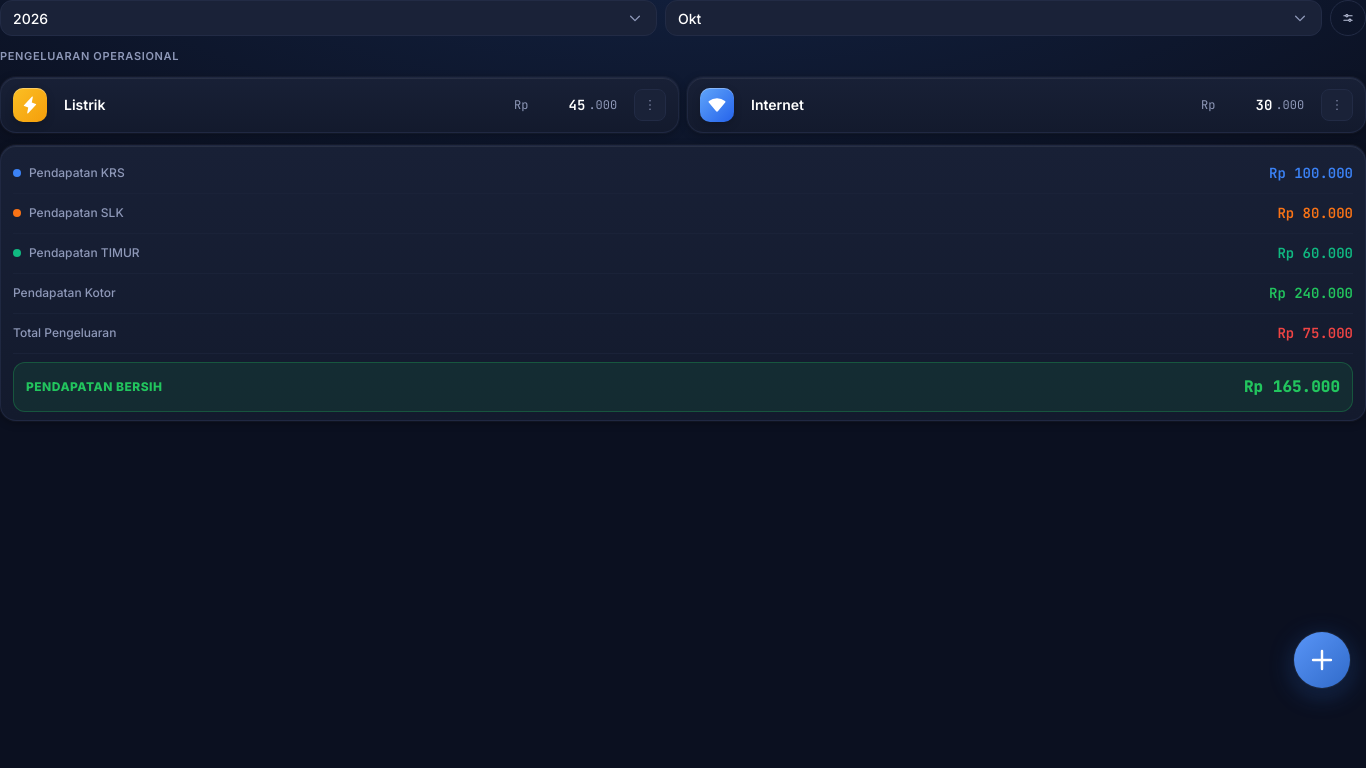
Test: Operasional — ringkasan, sheet, simpan, hapus › Tambah Item = sheet; keterangan kosong ditolak; simpan → persistPayment + log [OPS] + toast hijau
Click the button named "Tambah Item" at coordinates (1322, 660), box [1294,632,1350,688]
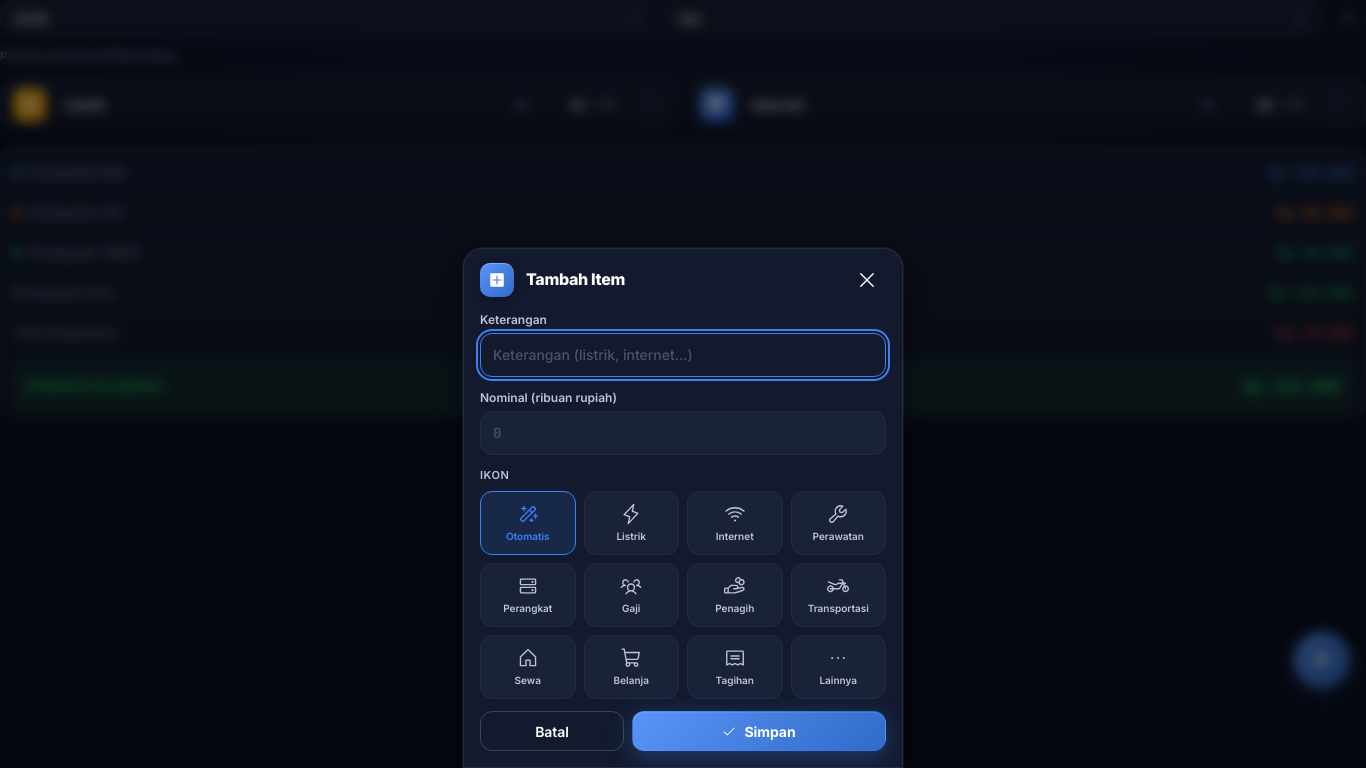
Click the button "Simpan" at coordinates (759, 731), box [632,711,886,751]
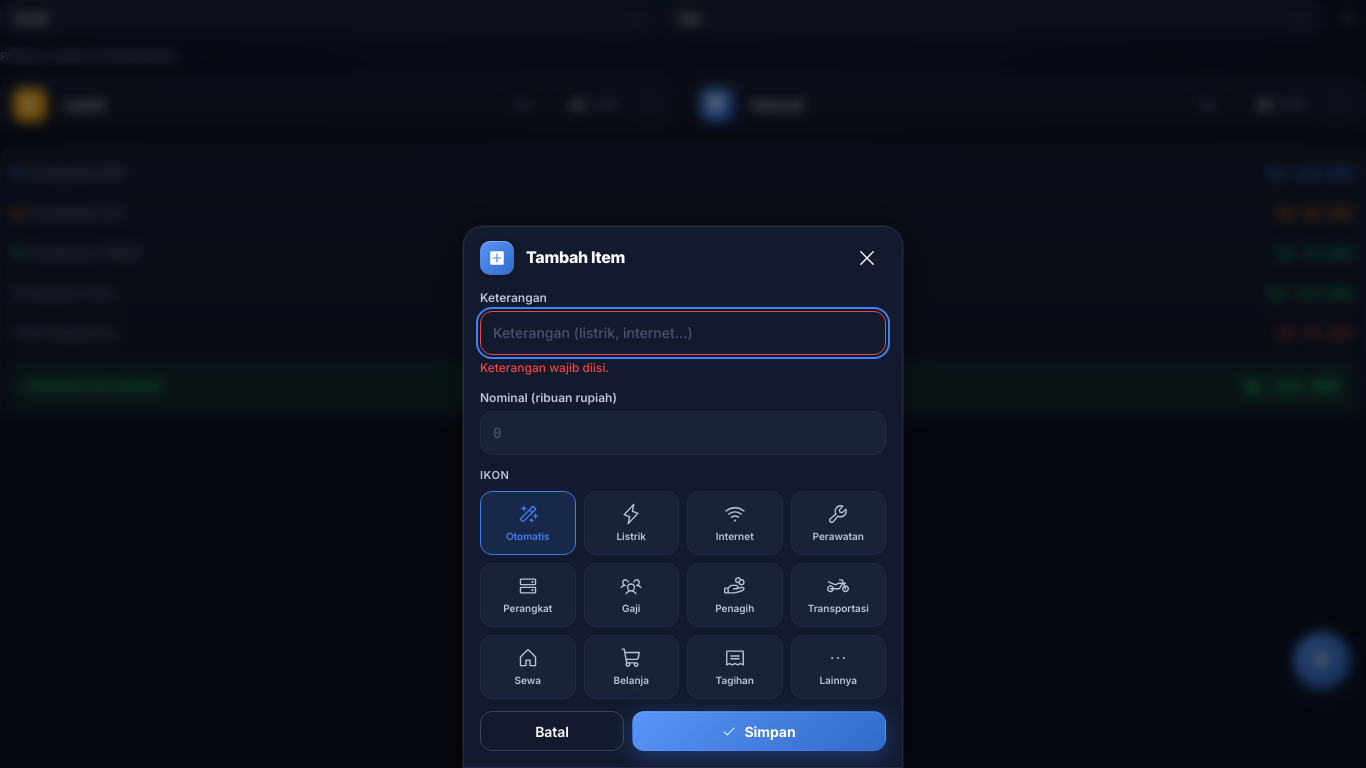
Now the text "Keterangan wajib diisi." is shown, box [480,360,609,374]
Type "Perawatan" into the field labelled "Keterangan" at coordinates (683, 332), box [480,310,886,354]
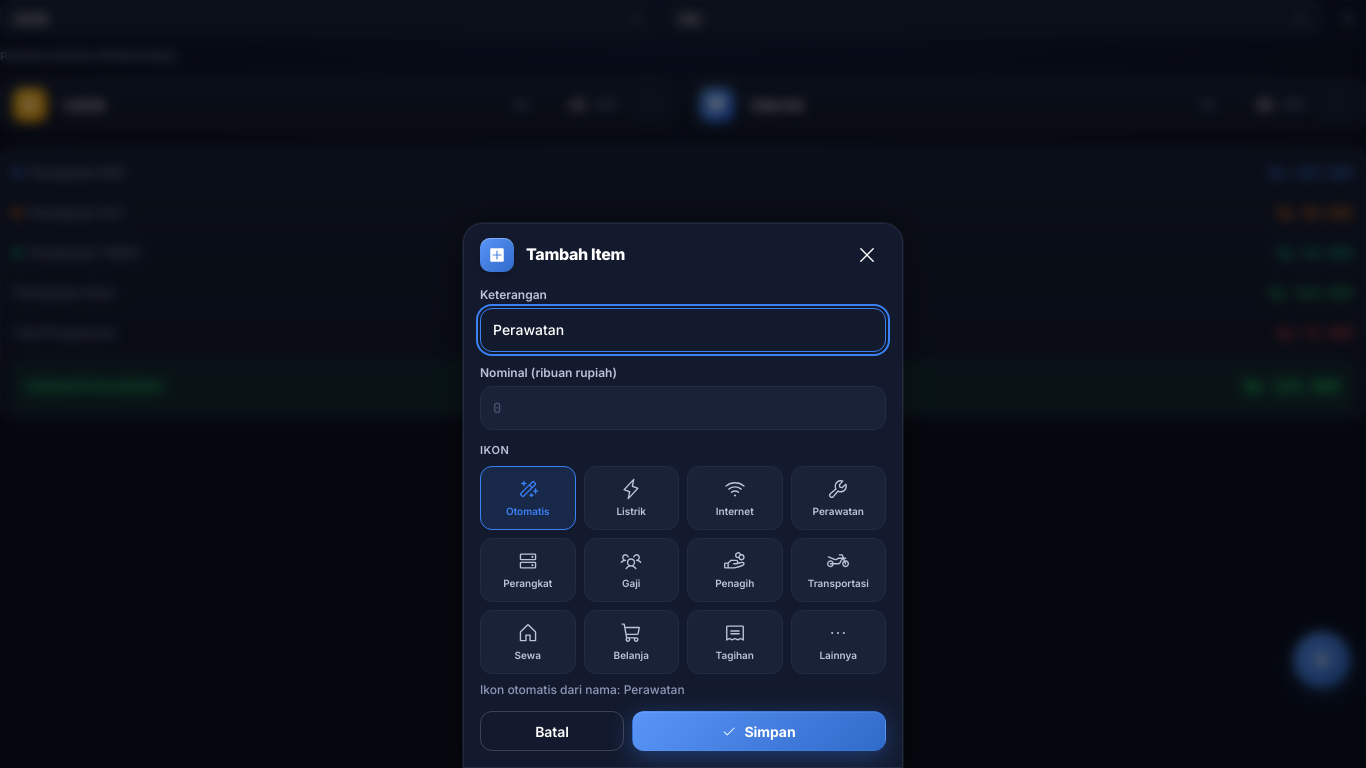
Type "25" into the number field labelled "Nominal (ribuan rupiah)" at coordinates (683, 408), box [480,386,886,430]
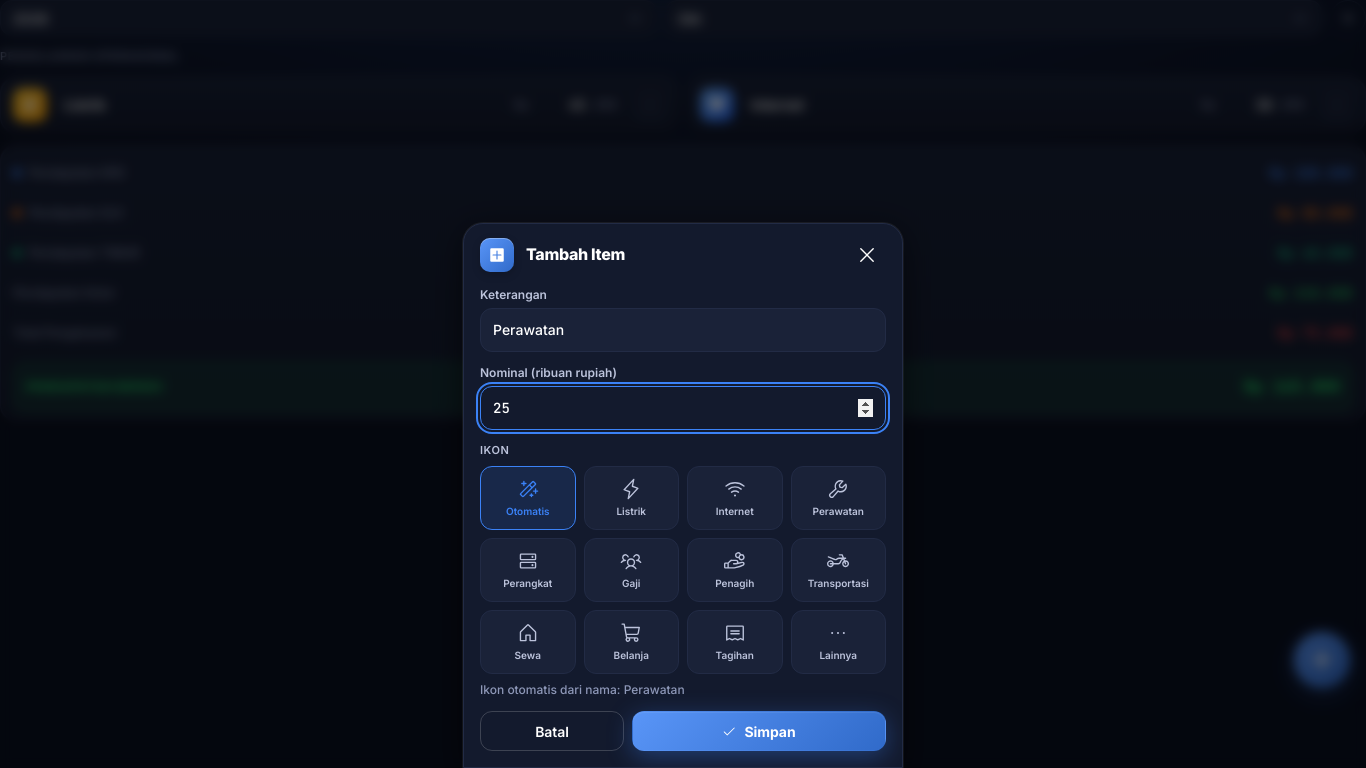
Click the button "Simpan" at coordinates (759, 731), box [632,711,886,751]
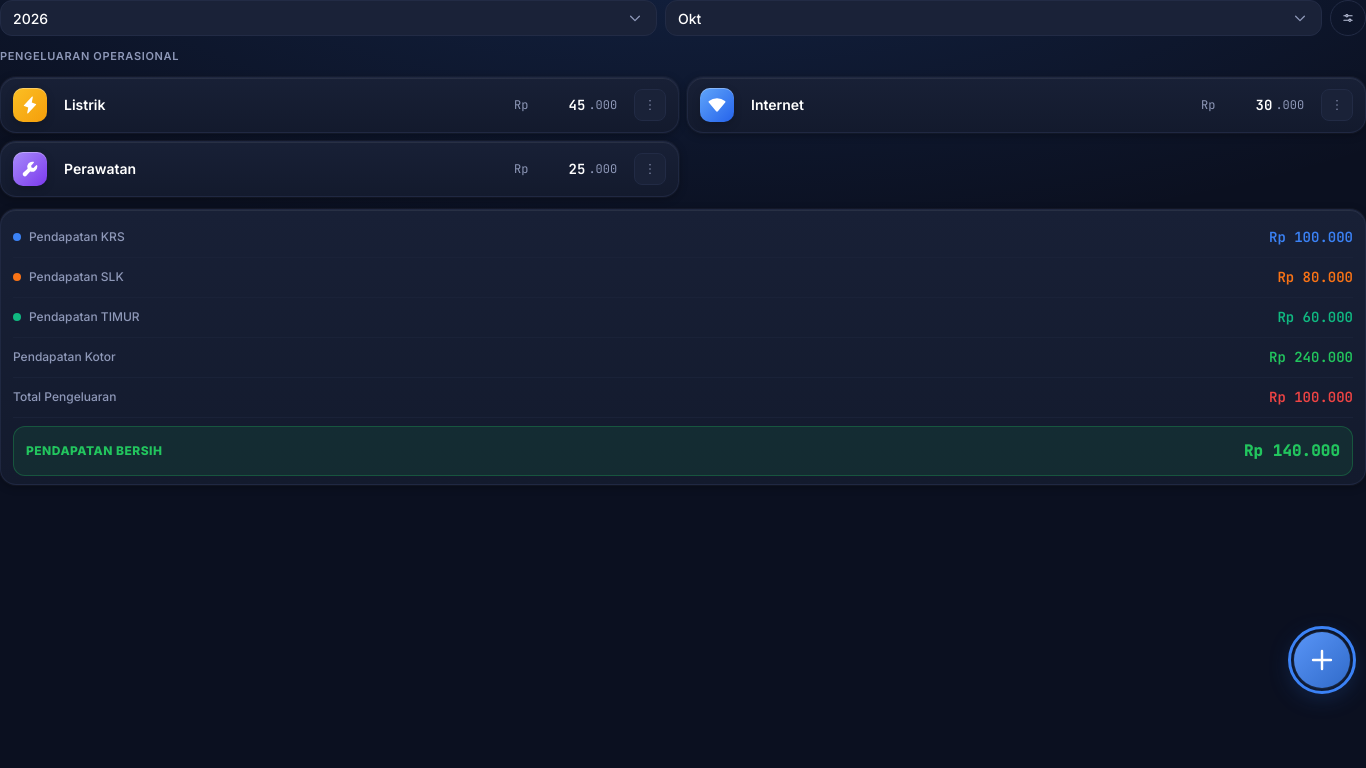
Now the dialog is gone
Now the element named "PENDAPATAN BERSIH" shows "Rp 140.000", box [1244,440,1340,460]
